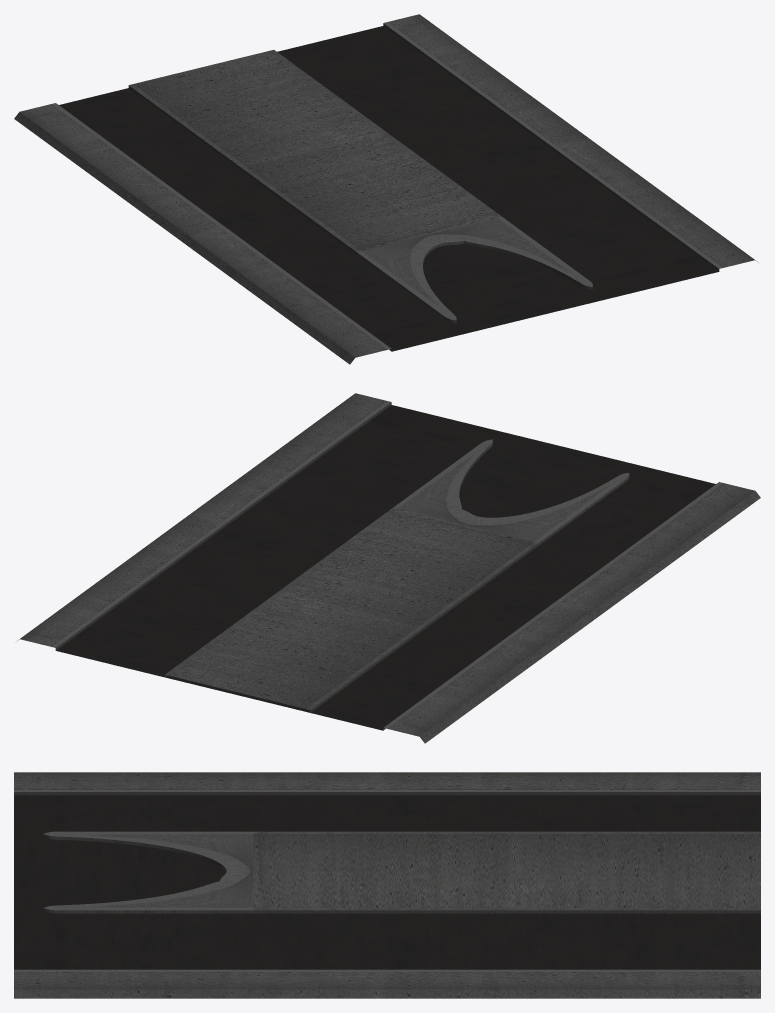
File: RJs_Road Pass 2+4+2 Basic Node_L_lod.fbx
3 views of the same model, one above another, from view 1: azimuth 30°, elevation 25°; view 2: azimuth 150°, elevation 25°; view 3: azimuth 270°, elevation 25° (orthographic). The views are drawn at different scales.
Parts seen in each view (by area): view 1: plane_lod; view 2: plane_lod; view 3: plane_lod.
Part boxes in pixels (bbox=[...]): plane_lod: bbox=[14, 14, 757, 364]; plane_lod: bbox=[17, 393, 760, 743]; plane_lod: bbox=[14, 772, 760, 998].
Size of the model in its own units: 4520 by 61.07 by 6400.
